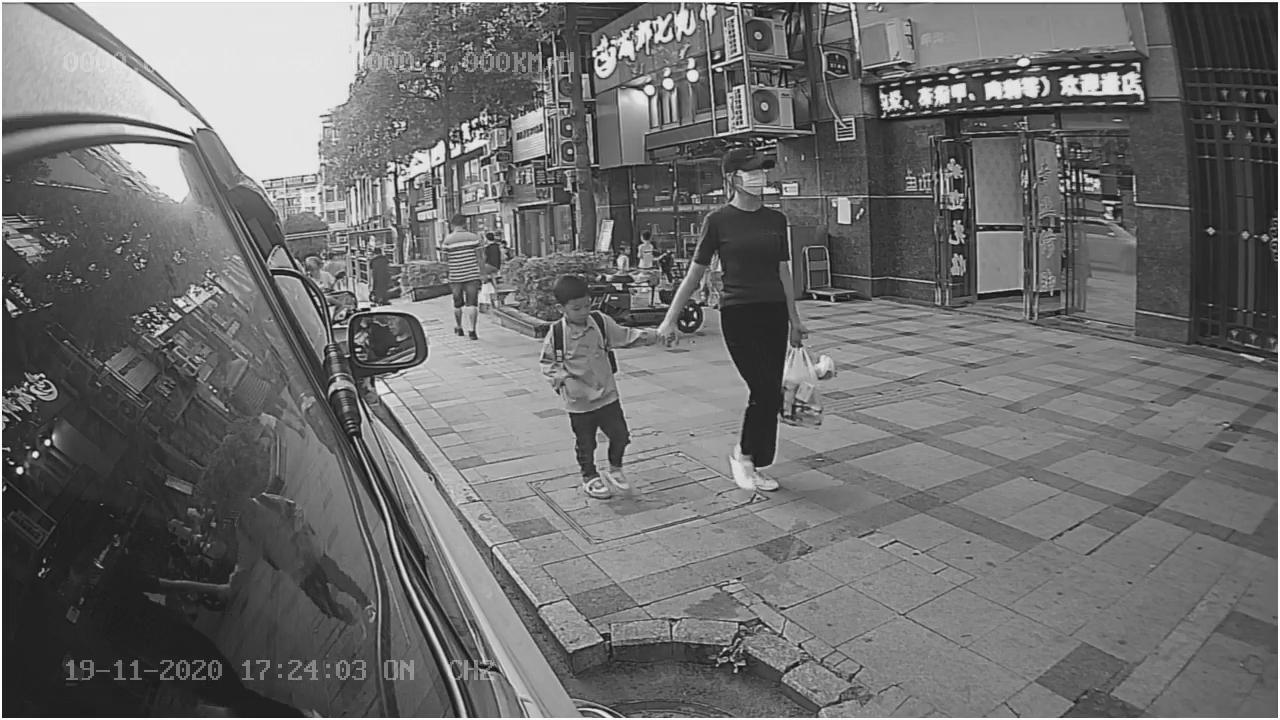person: (659, 152, 825, 491), (525, 275, 657, 501), (431, 212, 488, 342)
